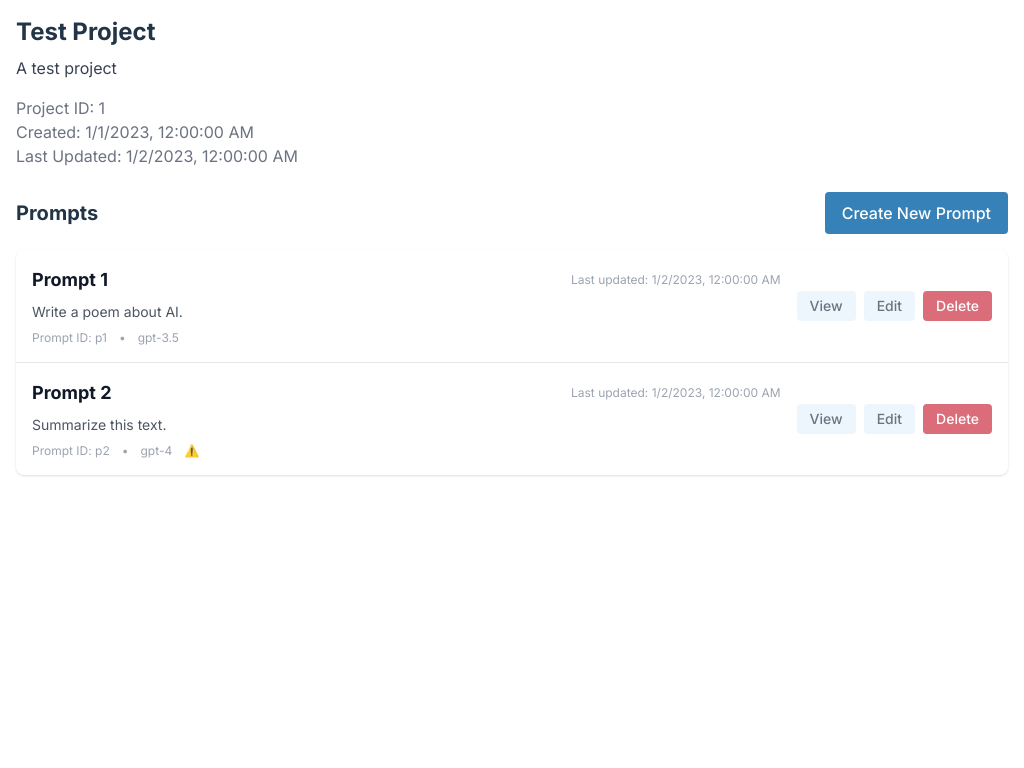
Test case: ProjectPage › creates a new prompt successfully
The image size is (1024, 768).
Click the button "Create New Prompt".
click(916, 213)  # box [825, 192, 1008, 234]
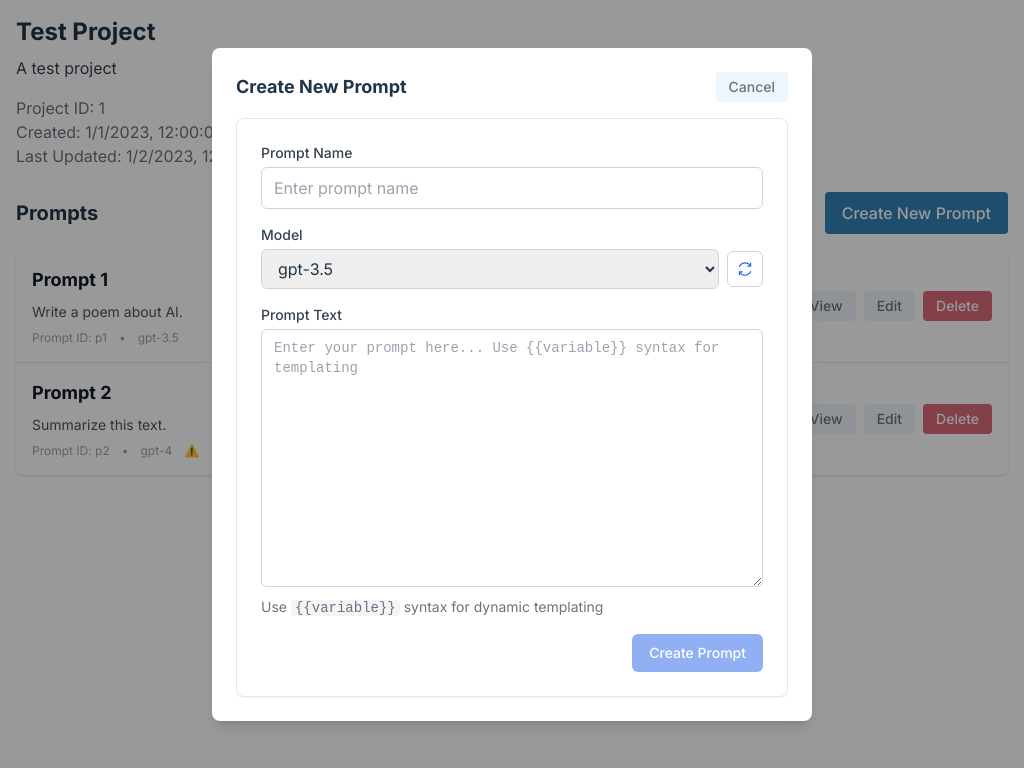
Result: the element with test id "create-prompt-modal" is shown
Type "New Prompt" into the field labelled "Prompt Name".
click(512, 188); type("New Prompt")  # box [261, 166, 763, 208]
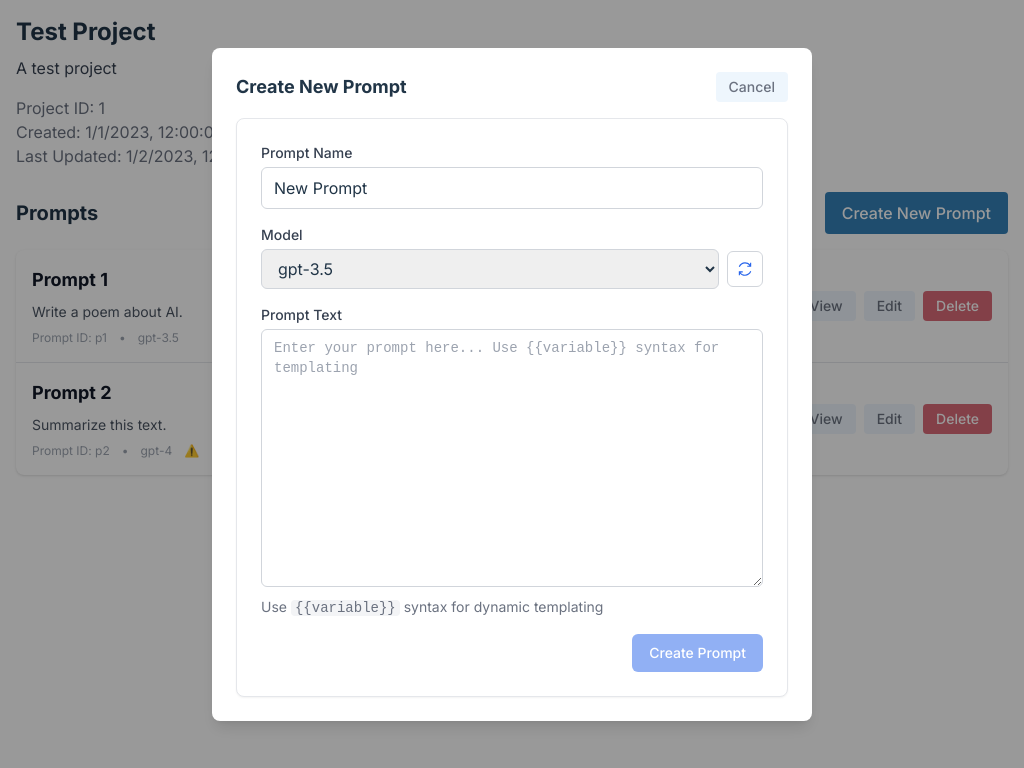
Replace the text in the text box labelled "Prompt Text" with "New prompt text" at (512, 458), box [261, 328, 763, 586]
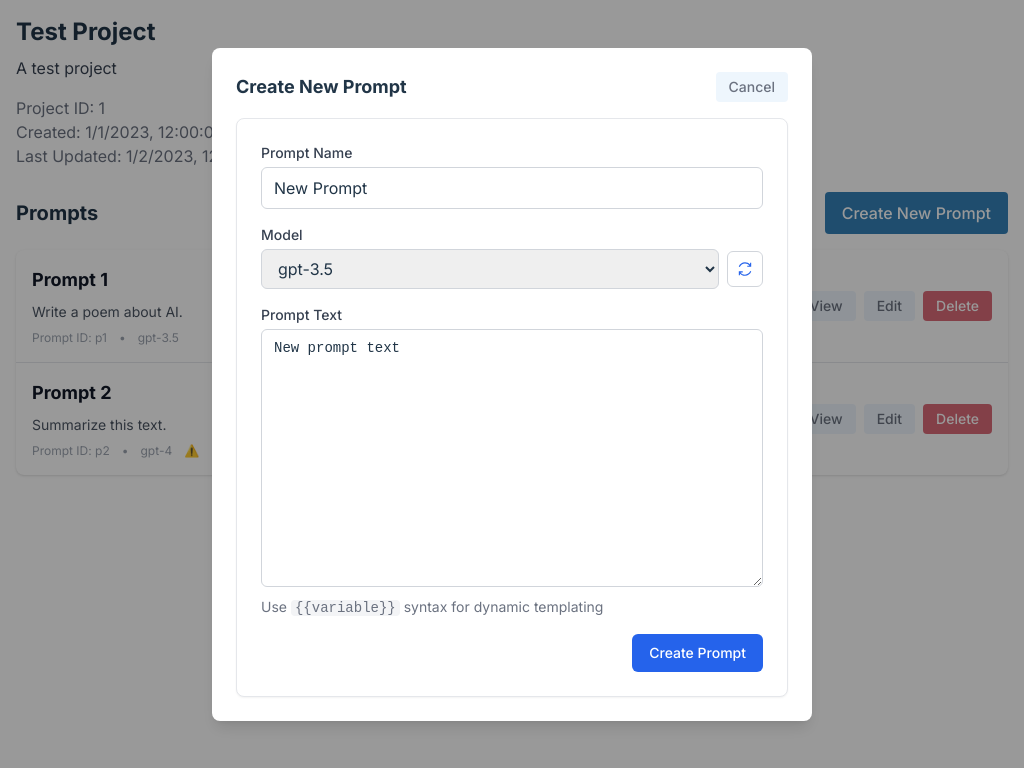
Click the button "Create Prompt".
click(698, 652)  # box [632, 634, 763, 672]
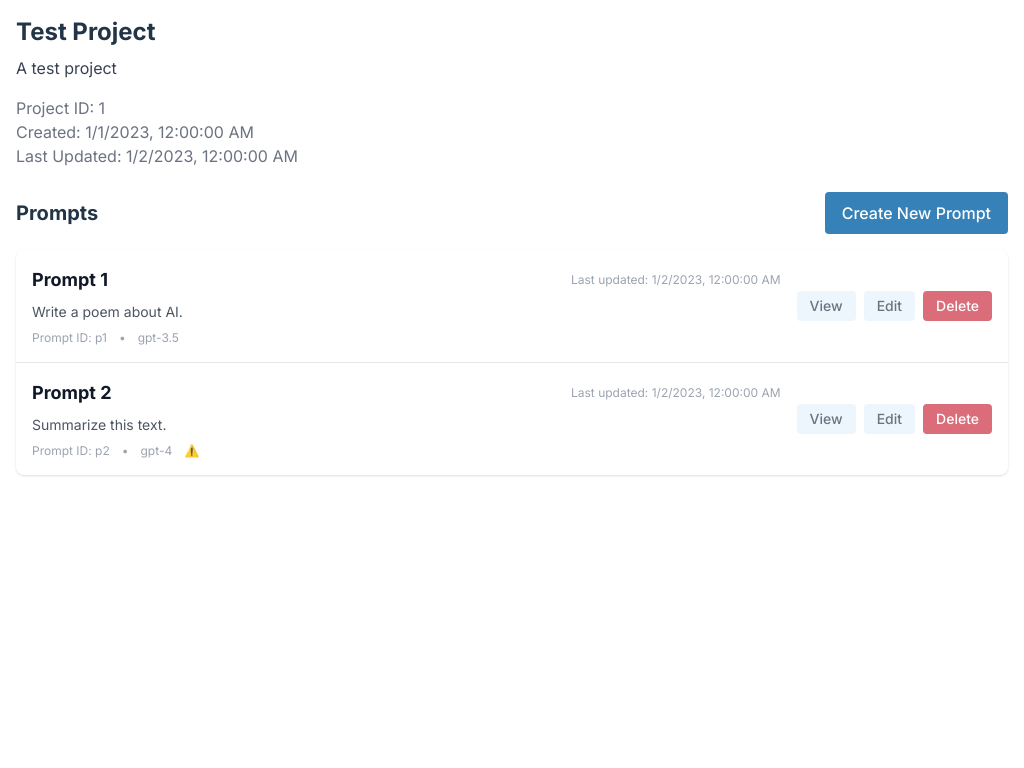
Result: the element with test id "create-prompt-modal" is gone
